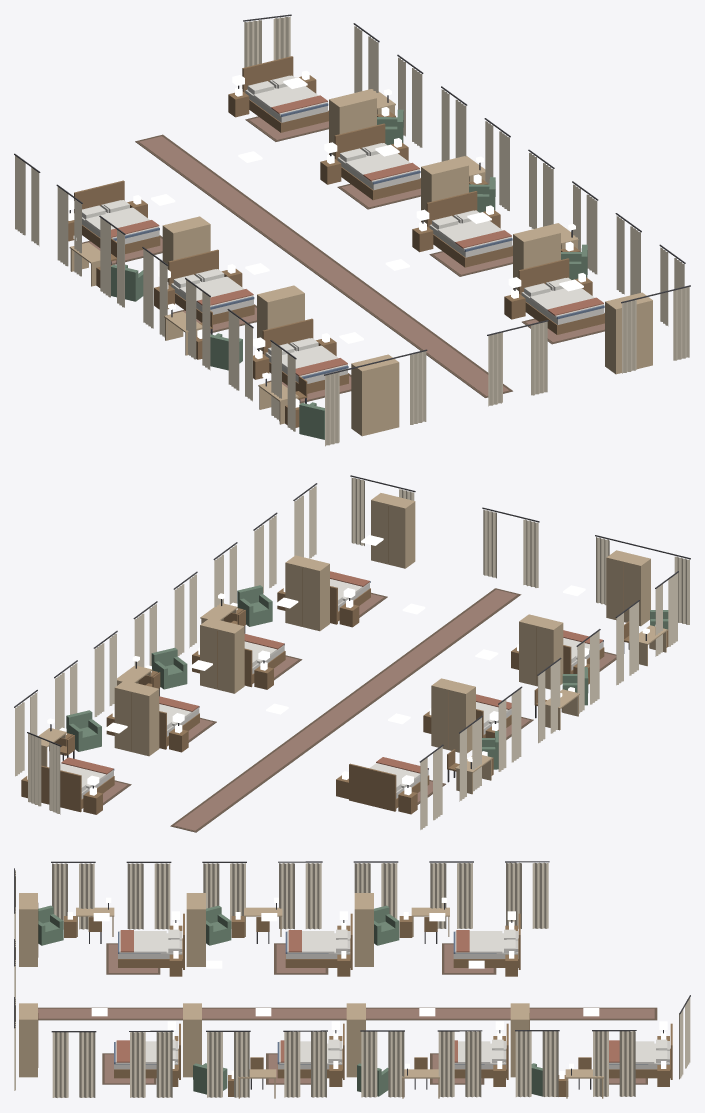
File: fine-s1.glb
3 renders of one model, top to bottom at view 1: azimuth 30°, elevation 25°; view 2: azimuth 150°, elevation 25°; view 3: azimuth 270°, elevation 25°, orthographic. The views are drawn at different scales.
Parts seen in each view (by area): view 1: soft-s1, dresser.002, bed-frame.005, bed-frame.004, bed-frame.003, dresser.006, bed-frame.006, bed-frame.001, bed-frame.000, bed-frame.002, dresser.004, dresser.000 (+9 smaller); view 2: soft-s1, dresser.003, dresser.006, dresser.004, dresser.005, dresser.000, dresser.002, dresser.001, bed-frame.000, bed-frame.003, lounge-chair.004, lounge-chair.003 (+7 smaller); view 3: soft-s1, dresser.000, dresser.001, dresser.006, dresser.002, dresser.005, dresser.004, bed-frame.001, bed-frame.002, bed-frame.000, lounge-chair.002, lounge-chair.000 (+14 smaller).
Part boxes in pixels (x1,y1,x2,y2): soft-s1: (14,14,690,446); dresser.002: (351,354,399,436); bed-frame.005: (426,191,512,267); bed-frame.004: (334,123,420,200); bed-frame.003: (242,56,328,132); dresser.006: (605,292,652,374); bed-frame.006: (518,258,604,334); bed-frame.001: (168,249,254,324); bed-frame.000: (74,180,160,253); bed-frame.002: (262,318,348,393); dresser.004: (421,158,468,223); dresser.000: (162,216,210,281); soft-s1: (14,475,690,832); dresser.003: (114,680,159,756); dresser.006: (371,493,415,568); dresser.004: (200,618,244,693); dresser.005: (285,555,329,631); dresser.000: (431,678,475,753); dresser.002: (606,550,650,626); dresser.001: (519,614,563,689); bed-frame.000: (349,763,429,811); bed-frame.003: (41,765,114,812); lounge-chair.004: (151,647,187,689); lounge-chair.003: (66,710,101,751); soft-s1: (14,861,690,1097); dresser.000: (354,893,373,966); dresser.001: (186,893,205,966); dresser.006: (19,1003,38,1077); dresser.002: (19,893,38,966); dresser.005: (183,1003,201,1077); dresser.004: (346,1003,365,1077); bed-frame.001: (285,913,352,969); bed-frame.002: (118,913,184,969); bed-frame.000: (453,913,520,969); lounge-chair.002: (38,905,63,945); lounge-chair.000: (374,905,399,945).
Size of the model in its own units: 12.62 by 2.36 by 21.21.
